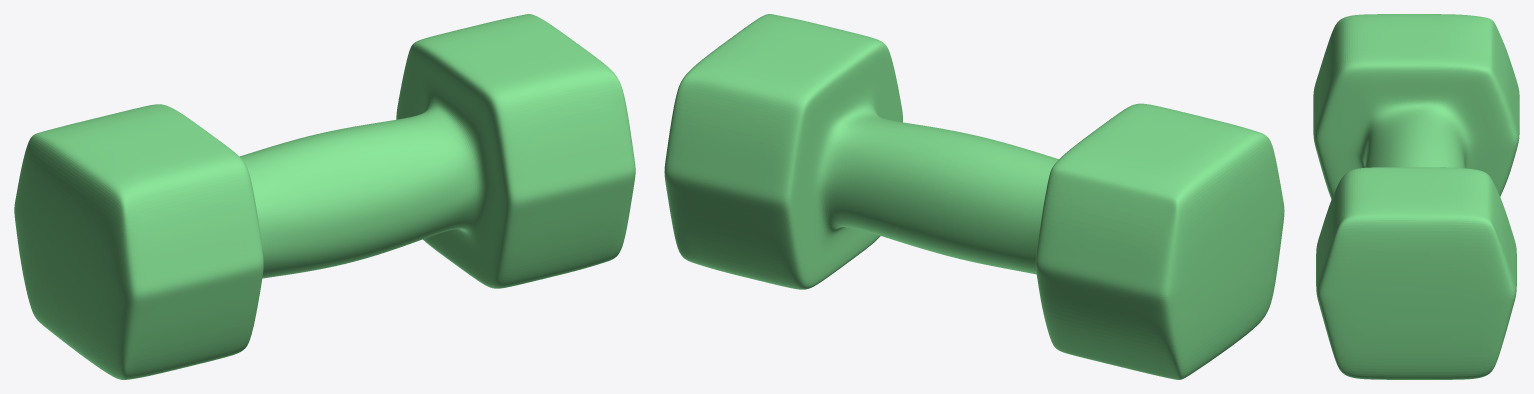
Rendered from balance.glb.
The picture shows the model from 3 angles, left to right: view 1: azimuth 30°, elevation 25°; view 2: azimuth 150°, elevation 25°; view 3: azimuth 270°, elevation 25°; orthographic projection. The views are drawn at different scales.
Visible parts, largest first — view 1: Cube_0; view 2: Cube_0; view 3: Cube_0.
Boxes of the visible parts, x1,y1,x2,y2 form: Cube_0: (14,14,635,379); Cube_0: (664,14,1284,379); Cube_0: (1313,14,1519,379).
Bounding box in the file's own units: 3 × 1.13 × 1.24.
